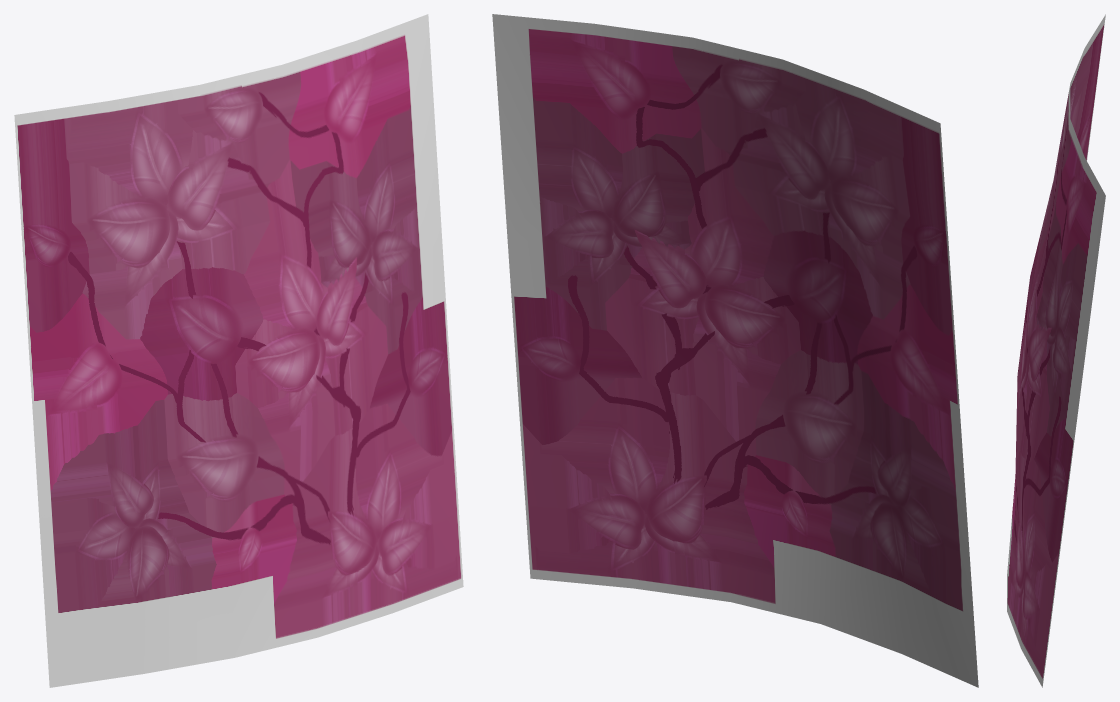
Rendered from SM_Enviro_Ivy.fbx.
The picture shows the model from 3 angles, left to right: view 1: azimuth 30°, elevation 25°; view 2: azimuth 150°, elevation 25°; view 3: azimuth 270°, elevation 25°; orthographic projection. The views are drawn at different scales.
Parts seen in each view (by area): view 1: SM_Enviro_Ivy; view 2: SM_Enviro_Ivy; view 3: SM_Enviro_Ivy.
Boxes of the visible parts, x1,y1,x2,y2 form: SM_Enviro_Ivy: (14,14,463,687); SM_Enviro_Ivy: (492,14,978,687); SM_Enviro_Ivy: (1007,14,1105,687).
Size of the model in its own units: 378 by 481 by 86.97.
